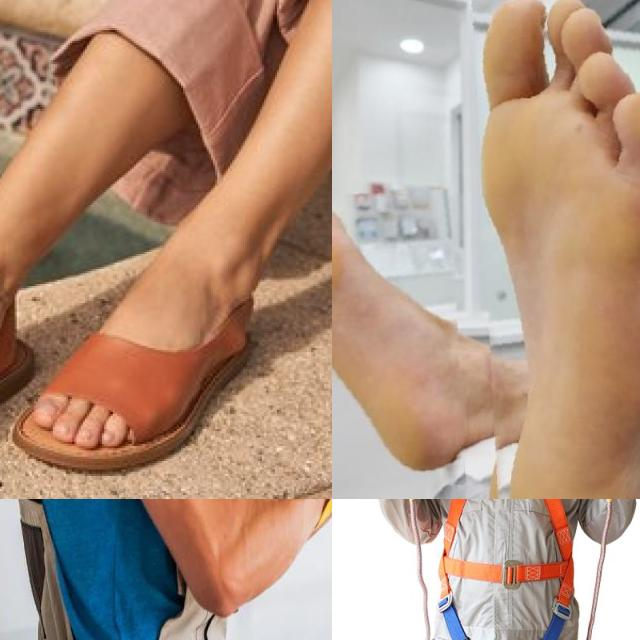Barefoots: (480, 0, 640, 499), (332, 204, 479, 483)
Harness: (429, 499, 576, 640)
Sandals: (11, 260, 260, 472)
person: (0, 499, 332, 640)
